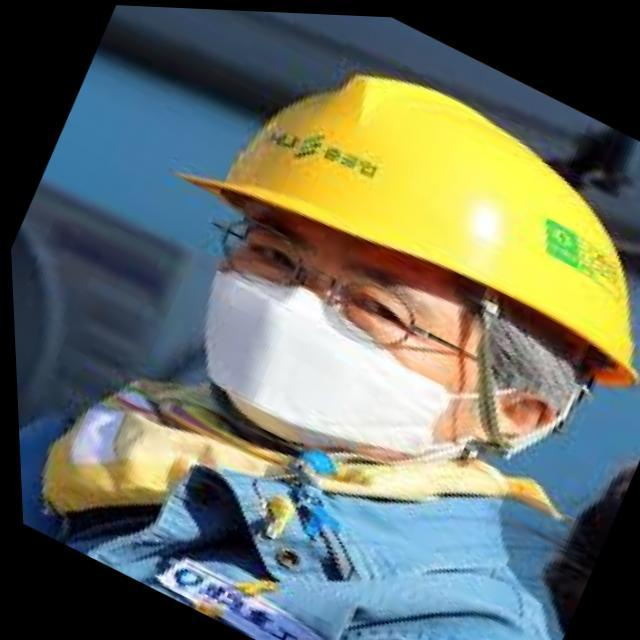Helmet: (175, 70, 634, 462)
